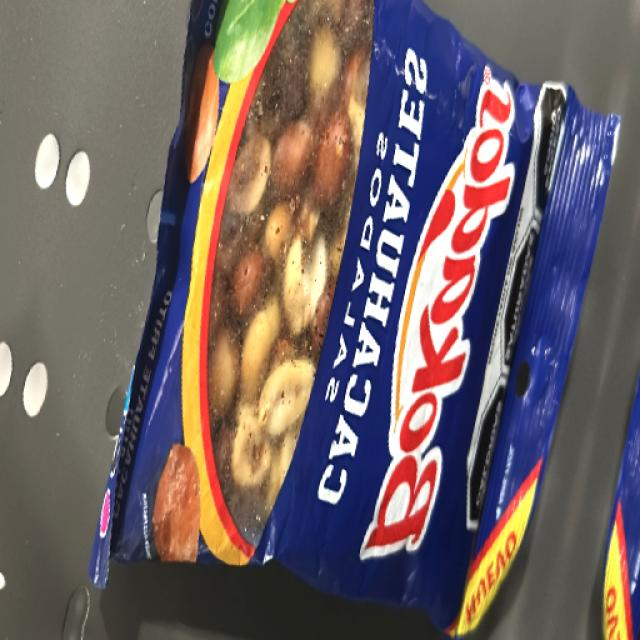bokadosCacahuates: (146, 81, 592, 557)
